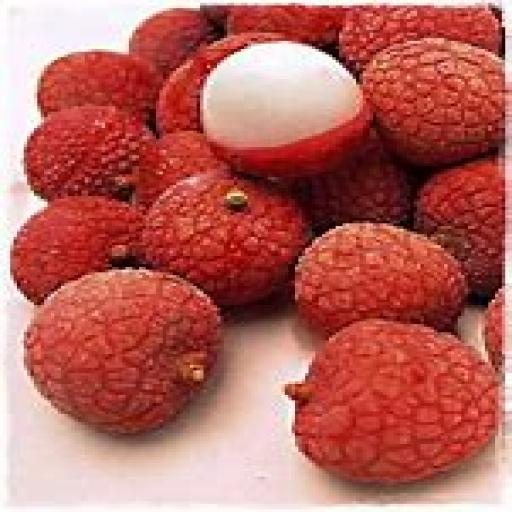lychee: (285, 319, 498, 484), (24, 270, 220, 433), (201, 41, 369, 177), (143, 172, 308, 307), (295, 224, 467, 334), (363, 39, 505, 166), (11, 197, 142, 302), (156, 33, 284, 133), (24, 107, 159, 198), (418, 156, 505, 296), (289, 134, 413, 231), (340, 6, 501, 70), (38, 50, 162, 119), (136, 131, 227, 206), (129, 9, 213, 76), (228, 3, 349, 46), (485, 289, 505, 370), (201, 3, 230, 32)
